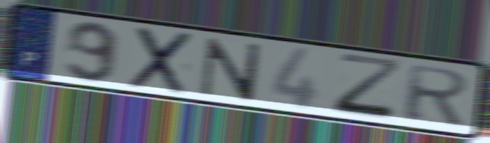4: (269, 45, 326, 112)
9: (65, 20, 122, 84)
N: (196, 36, 266, 103)
R: (402, 63, 473, 128)
X: (125, 25, 197, 97)
Z: (331, 51, 407, 124)
